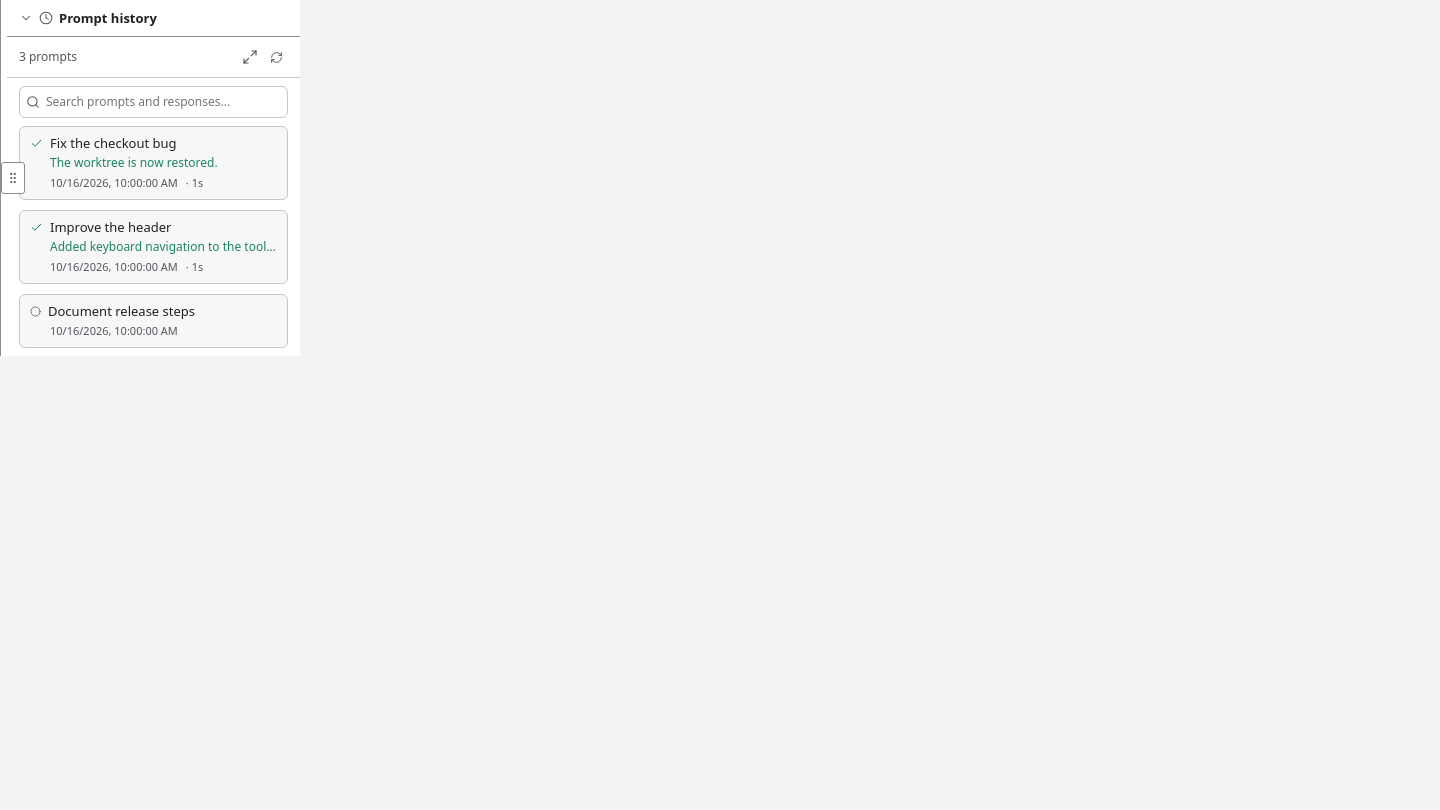
Test: prompt history search › announces successful response copying and explicitly reports an unconfirmed clipboard write
The width and height of the screenshot is (1440, 810).
Check: the text "Fix the checkout bug" is shown, box [50,135,177,151]
Click the button titled "Open full prompt and response": (154, 163) [19,126,288,200]
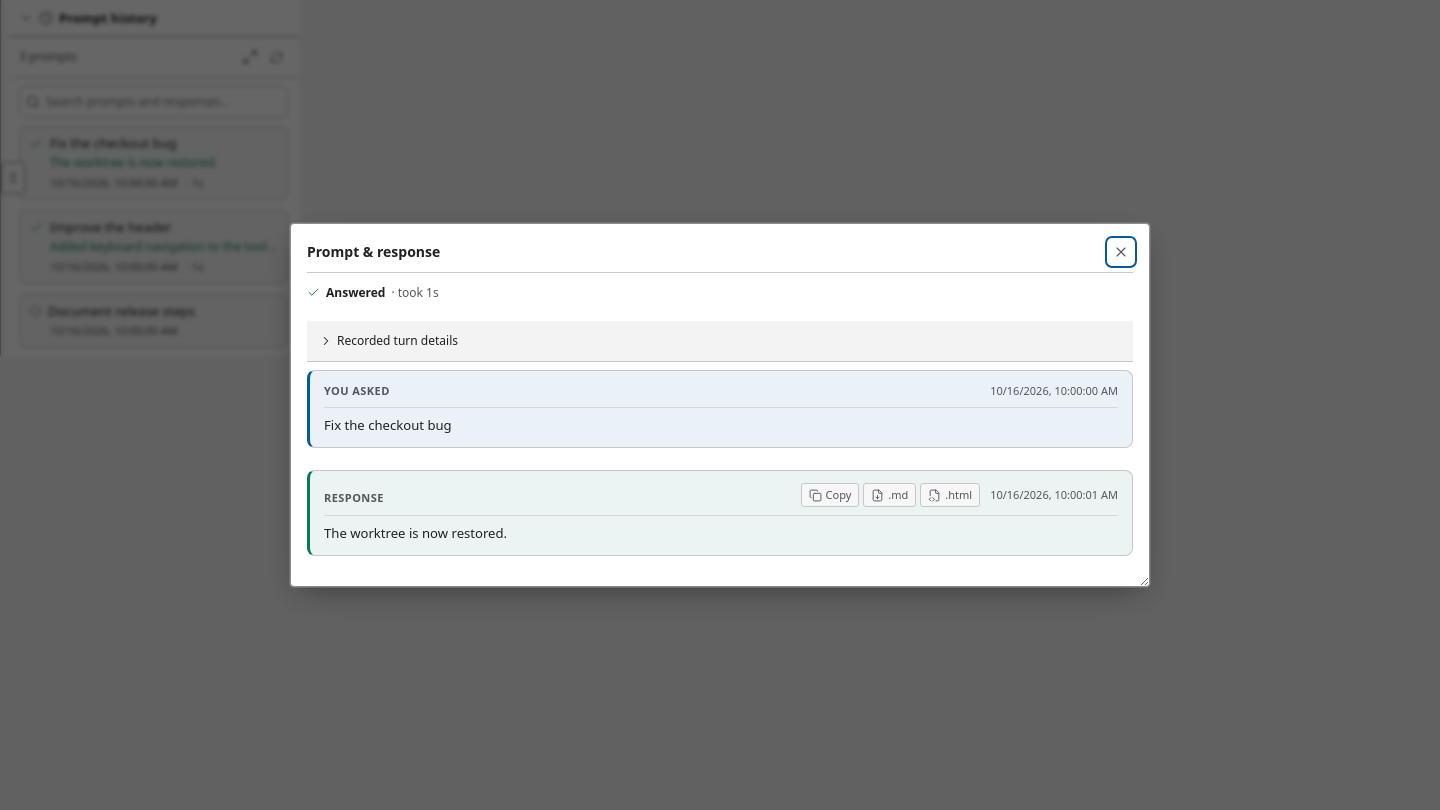
Click the button with aria-label "Copy response as Markdown": (830, 495) [800,483,859,507]
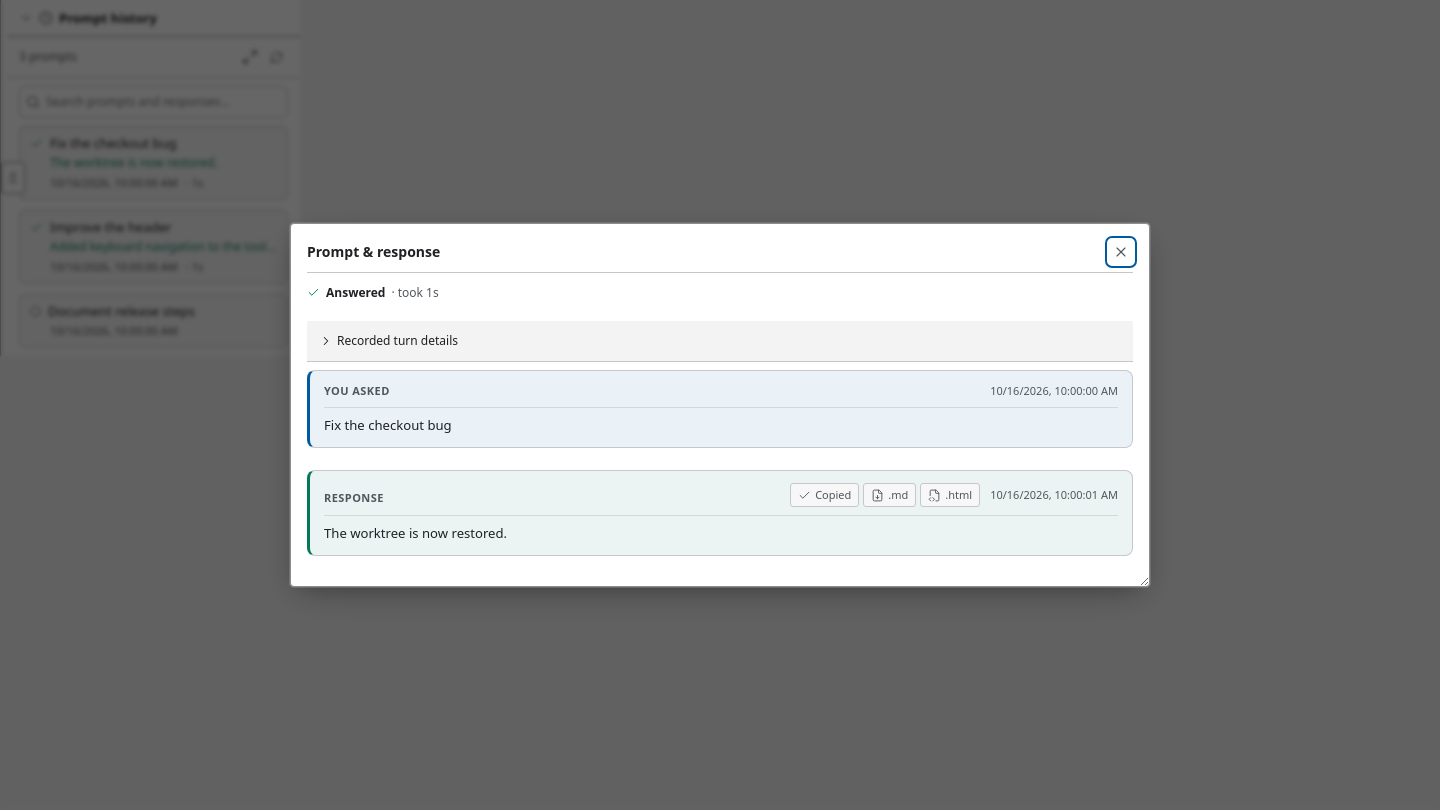
Check: the button with aria-label "Response copied" is shown
Click the button with aria-label "Response copied": (825, 495) [790,483,859,507]
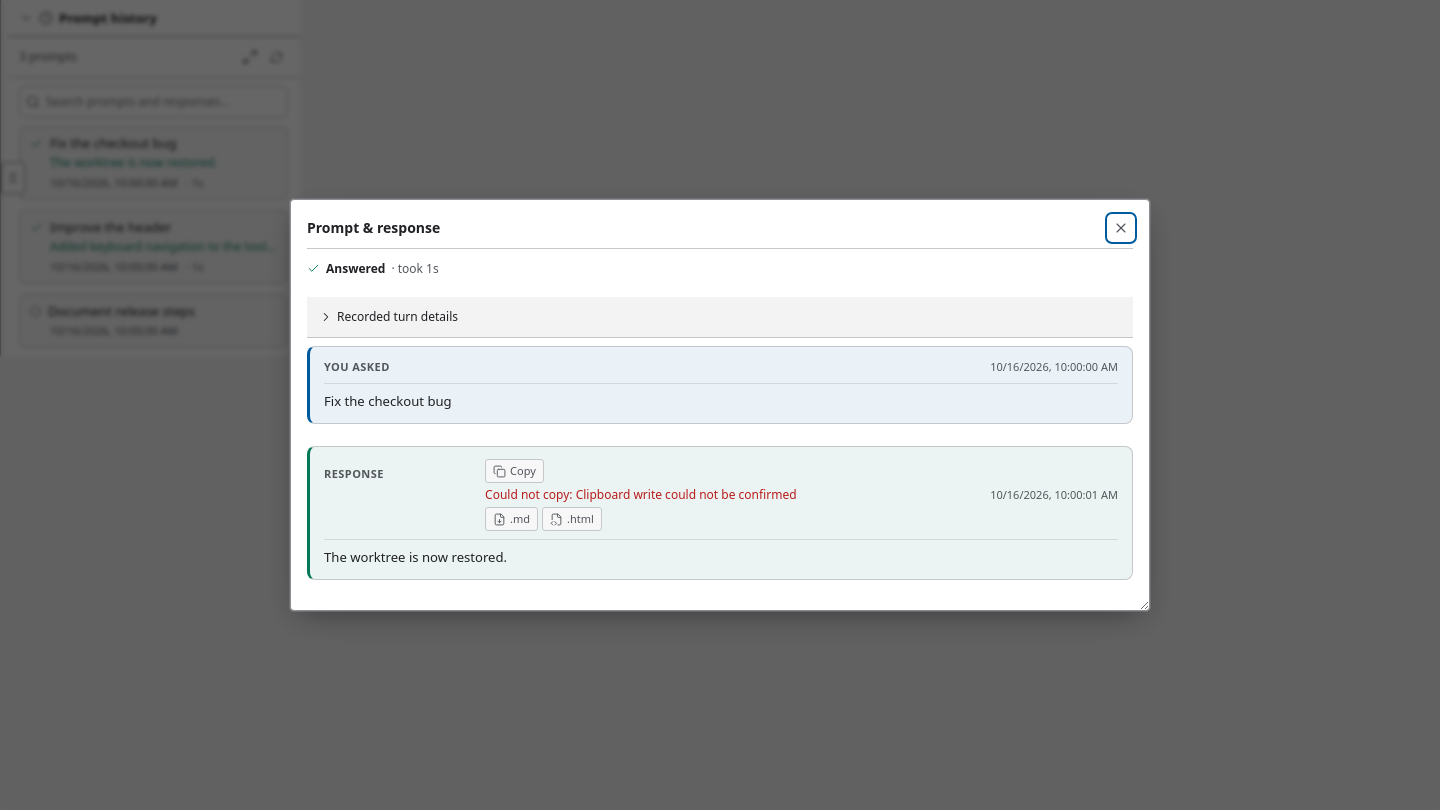
Check: the message shows "Clipboard write could not be confirmed", box [576,486,797,503]
